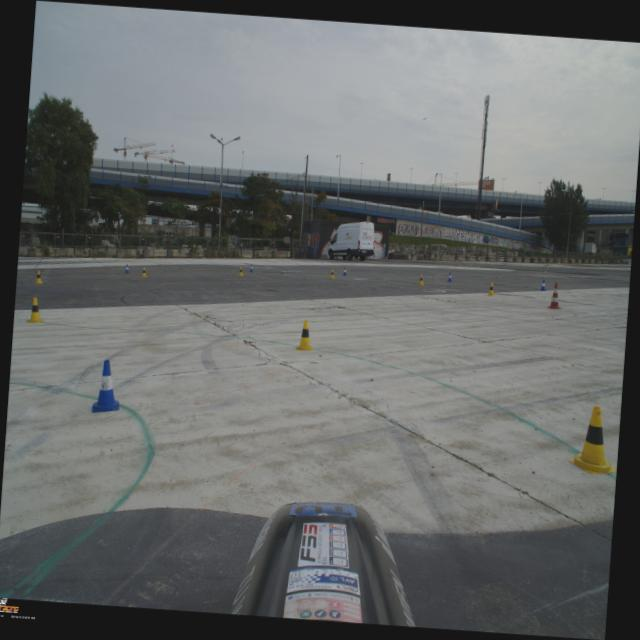blue_cone: (91, 359, 122, 414), (538, 279, 546, 291), (342, 266, 348, 276), (447, 272, 453, 282), (124, 264, 130, 273), (248, 263, 254, 272)
large_orange_cone: (546, 282, 563, 310)
yellow_cone: (567, 404, 621, 475), (25, 296, 46, 324), (296, 319, 314, 351), (34, 270, 44, 284), (486, 282, 496, 296), (140, 266, 148, 277), (418, 274, 424, 285), (238, 266, 244, 276), (330, 268, 336, 278)
